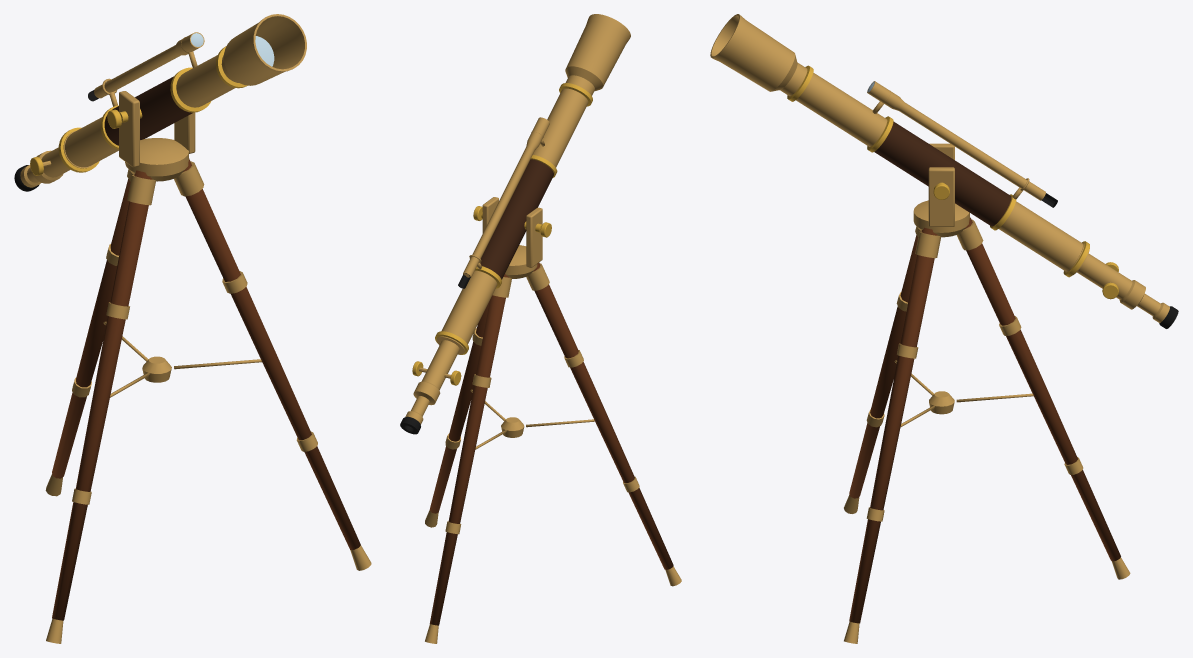
The model's file is telescope.glb.
The picture shows the model from 3 angles, left to right: view 1: azimuth 30°, elevation 25°; view 2: azimuth 150°, elevation 25°; view 3: azimuth 270°, elevation 25°; orthographic projection. The views are drawn at different scales.
Visible parts, largest first — view 1: telescope_brass, telescope_wood_mahogany, telescope_leather, telescope_gold, telescope_glass_lens; view 2: telescope_brass, telescope_wood_mahogany, telescope_leather, telescope_gold; view 3: telescope_brass, telescope_wood_mahogany, telescope_leather, telescope_gold.
Part boxes in pixels (box(x1,y1,x2,y2)): telescope_brass: box(20, 14, 371, 643); telescope_wood_mahogany: box(52, 158, 360, 620); telescope_leather: box(104, 76, 192, 145); telescope_gold: box(30, 46, 247, 175); telescope_glass_lens: box(190, 33, 274, 66); telescope_brass: box(405, 14, 681, 643); telescope_wood_mahogany: box(429, 262, 673, 625); telescope_leather: box(480, 159, 553, 279); telescope_gold: box(412, 83, 592, 385); telescope_brass: box(710, 14, 1169, 643); telescope_wood_mahogany: box(849, 217, 1120, 623); telescope_leather: box(874, 121, 1011, 226); telescope_gold: box(787, 65, 1118, 299).
Bounding box in the file's own units: 0.8482 × 1.6 × 1.21.
